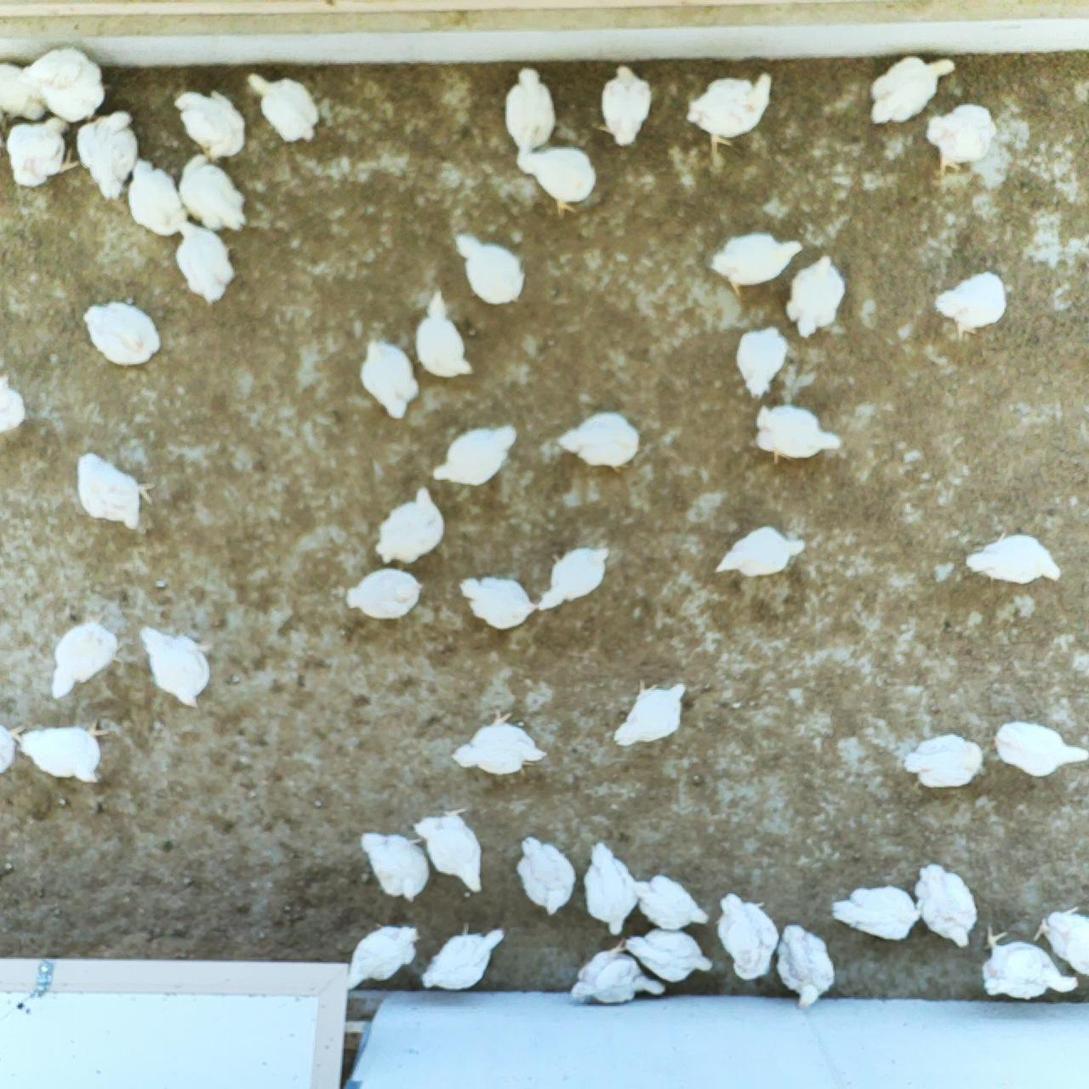chicken: (979, 920, 1082, 1002), (683, 70, 777, 157), (446, 707, 550, 779), (73, 447, 158, 535), (14, 715, 114, 789), (22, 43, 111, 126), (411, 802, 488, 897), (135, 621, 215, 712), (863, 54, 960, 129), (708, 227, 806, 300), (73, 109, 145, 206), (713, 884, 783, 983), (568, 939, 669, 1007), (910, 859, 983, 950), (371, 482, 448, 568), (419, 919, 506, 995), (960, 526, 1064, 589), (46, 615, 122, 701), (551, 409, 647, 477), (169, 85, 251, 162), (178, 152, 253, 236), (753, 400, 844, 469), (244, 71, 324, 149), (175, 215, 240, 311), (518, 146, 601, 221), (991, 716, 1089, 779), (452, 229, 529, 308), (3, 113, 80, 191), (830, 882, 925, 945), (773, 921, 838, 1013), (82, 297, 165, 369), (430, 422, 520, 488), (783, 253, 851, 340), (590, 61, 658, 148), (125, 153, 192, 241), (356, 335, 423, 423), (581, 838, 641, 936), (711, 522, 807, 583), (534, 543, 613, 617), (414, 286, 476, 380), (514, 831, 578, 921), (358, 828, 433, 904), (611, 677, 690, 749), (500, 64, 562, 154), (347, 920, 424, 992), (932, 268, 1011, 338), (920, 101, 999, 171), (623, 926, 713, 986), (454, 572, 539, 634), (902, 731, 987, 791), (731, 322, 791, 401), (633, 874, 712, 933), (1029, 903, 1089, 980), (345, 569, 425, 623), (0, 58, 49, 135), (0, 366, 29, 437)
